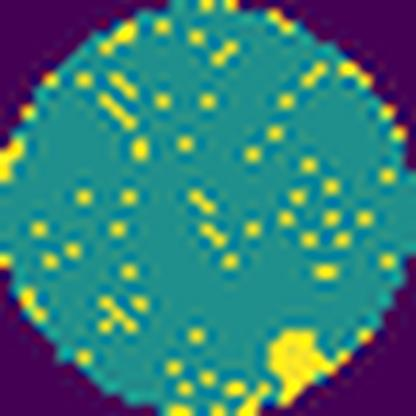Edge-Loc: (262, 322, 354, 408)
